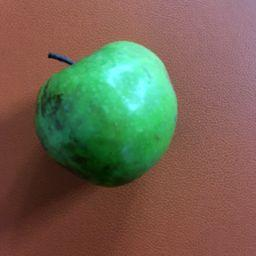apple: (15, 27, 195, 195)
